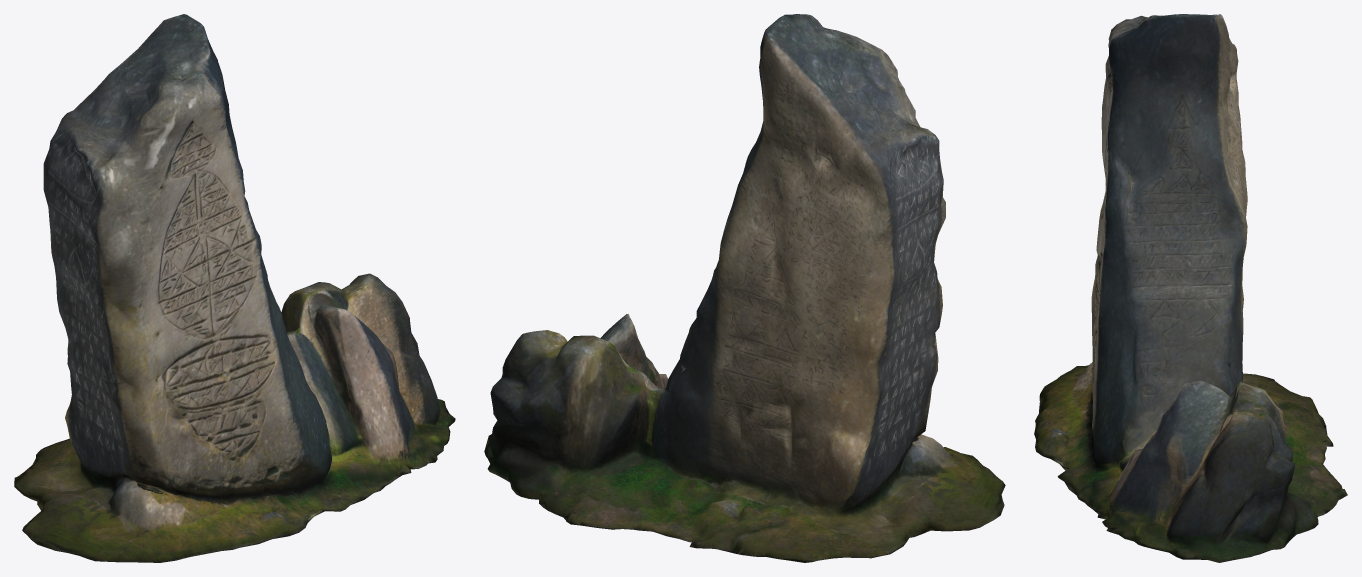
File: A_big_menhir_with_anc.glb
The picture shows the model from 3 angles, left to right: view 1: azimuth 30°, elevation 25°; view 2: azimuth 150°, elevation 25°; view 3: azimuth 270°, elevation 25°; orthographic projection. The views are drawn at different scales.
Parts seen in each view (by area): view 1: A_big_menhir_with_anc; view 2: A_big_menhir_with_anc; view 3: A_big_menhir_with_anc.
Part boxes in pixels (<box>): A_big_menhir_with_anc: <box>14,14,455,562</box>; A_big_menhir_with_anc: <box>484,14,1005,562</box>; A_big_menhir_with_anc: <box>1034,14,1347,562</box>.
Bounding box in the file's own units: 2.01 × 1.94 × 1.29.
Materials: 1 (1 with a texture image).
